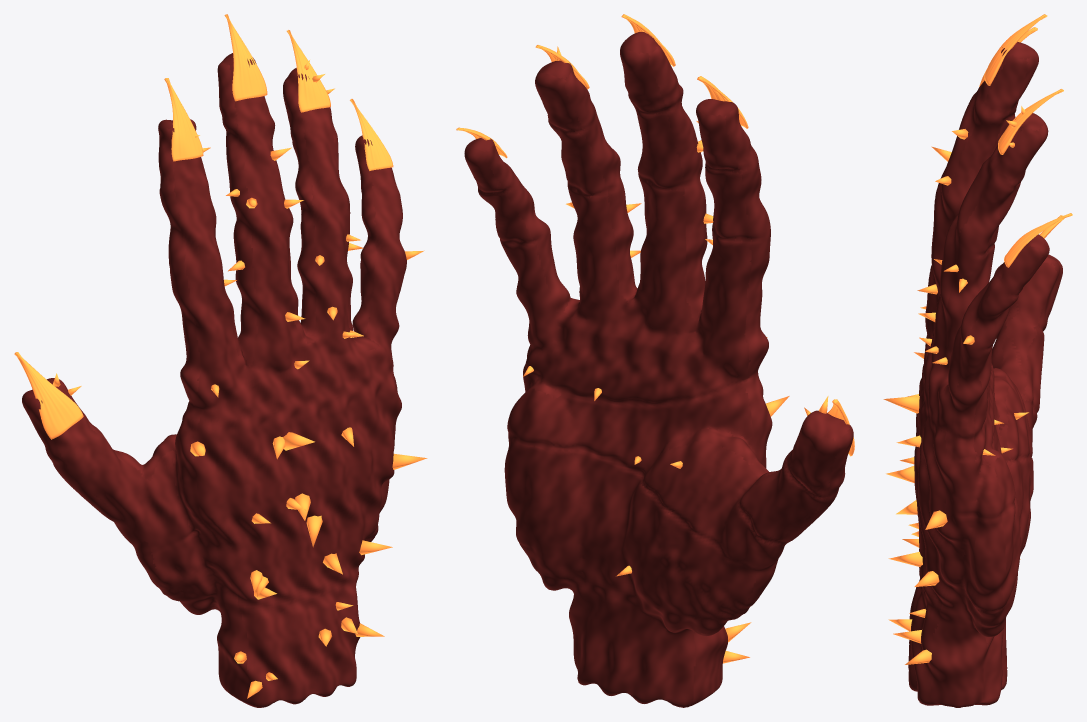
File: family-09.glb
3 renders of one model, left to right at view 1: azimuth 30°, elevation 25°; view 2: azimuth 150°, elevation 25°; view 3: azimuth 270°, elevation 25°, orthographic. The views are drawn at different scales.
Parts seen in each view (by area): view 1: fingers__fingers_sculpt, back_of_hand__back_of_hand_sculpt, wrist__wrist_sculpt, fingertips__fingertips_sculpt, back_of_hand, nails__thumb_claw, palm__palm_sculpt, nails__middle_claw, fingers, nails__index_claw, nails__ring_claw, wrist (+1 smaller); view 2: fingers__fingers_sculpt, palm__palm_sculpt, wrist__wrist_sculpt, fingertips__fingertips_sculpt; view 3: fingers__fingers_sculpt, palm__palm_sculpt, wrist__wrist_sculpt, back_of_hand__back_of_hand_sculpt, fingertips__fingertips_sculpt, back_of_hand, fingers, nails__middle_claw, wrist, nails__ring_claw, nails__pinky_claw.
Part boxes in pixels (x1,y1,x2,y2): fingers__fingers_sculpt: [49, 112, 406, 590]; back_of_hand__back_of_hand_sculpt: [179, 370, 401, 607]; wrist__wrist_sculpt: [170, 576, 360, 707]; fingertips__fingertips_sculpt: [22, 53, 395, 457]; back_of_hand: [190, 427, 427, 599]; nails__thumb_claw: [14, 352, 83, 439]; palm__palm_sculpt: [160, 412, 389, 600]; nails__middle_claw: [224, 14, 267, 101]; fingers: [211, 147, 424, 397]; nails__index_claw: [164, 78, 203, 161]; nails__ring_claw: [286, 30, 330, 112]; wrist: [234, 602, 384, 698]; fingers__fingers_sculpt: [477, 84, 843, 610]; palm__palm_sculpt: [504, 342, 765, 620]; wrist__wrist_sculpt: [535, 569, 737, 707]; fingertips__fingertips_sculpt: [464, 32, 853, 490]; fingers__fingers_sculpt: [923, 90, 1047, 500]; palm__palm_sculpt: [960, 363, 1030, 625]; wrist__wrist_sculpt: [908, 578, 1007, 707]; back_of_hand__back_of_hand_sculpt: [914, 364, 961, 614]; fingertips__fingertips_sculpt: [978, 42, 1062, 323]; back_of_hand: [883, 352, 947, 586]; fingers: [917, 129, 974, 364]; nails__middle_claw: [984, 14, 1047, 85]; wrist: [888, 609, 931, 664]; nails__ring_claw: [998, 89, 1063, 154]; nails__pinky_claw: [1004, 213, 1072, 267].
Size of the model in its own units: 0.1334 by 0.2275 by 0.0593.
Materials: 2 (1 with a texture image).
